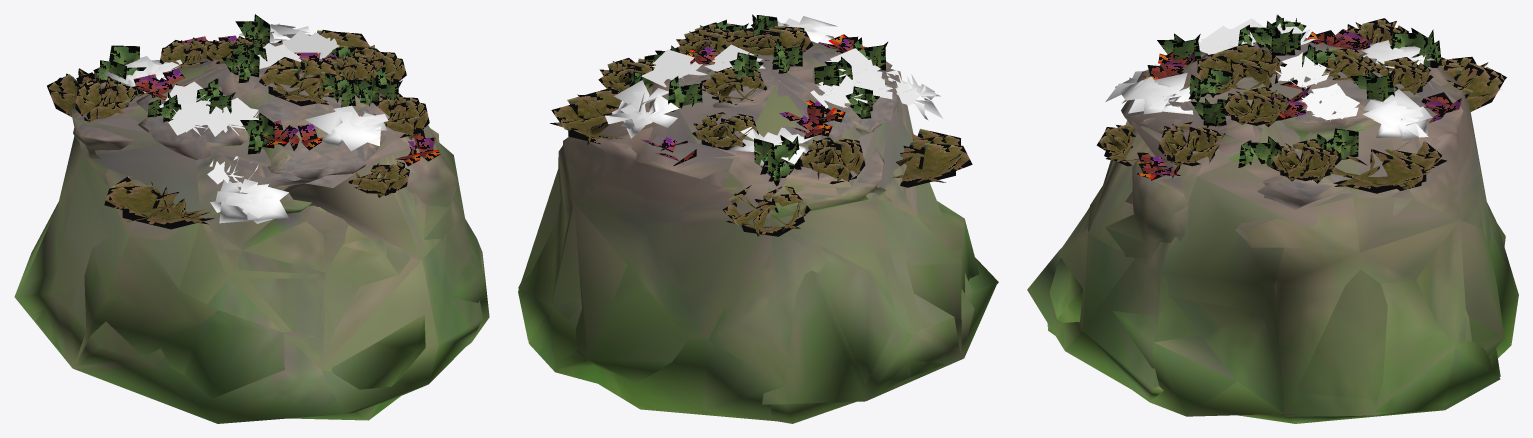
The model's file is objects_un_plan_reef01.gltf.
3 renders of one model, left to right at view 1: azimuth 30°, elevation 25°; view 2: azimuth 150°, elevation 25°; view 3: azimuth 270°, elevation 25°, orthographic. The views are drawn at different scales.
Visible parts, largest first — view 1: um_objects_un_plan_reef01_model_lod0Shape:ground_un_rock02_r, um_objects_un_plan_reef01_model_lod2Shape:ground_un_rock02_r, um_objects_un_plan_reef01_model_lod1Shape:ground_un_rock02_r, um_objects_un_plan_reef01_model_lod0Shape:plants_me_desertwe, um_objects_un_plan_reef01_model_lod1Shape:plants_me_desertwe, um_objects_un_plan_reef01_model_lod0Shape:plants_olive01, um_objects_un_plan_reef01_model_lod0Shape:plants_beachspurge, um_objects_un_plan_reef01_model_lod0Shape:plants_me_bush01_0, um_objects_un_plan_reef01_model_lod0Shape:objects_un_plan_se, um_objects_un_plan_reef01_model_lod1Shape:plants_olive01, um_objects_un_plan_reef01_model_lod1Shape:plants_me_bush01_0, um_objects_un_plan_reef01_model_lod1Shape:plants_beachspurge (+2 smaller); view 2: um_objects_un_plan_reef01_model_lod0Shape:ground_un_rock02_r, um_objects_un_plan_reef01_model_lod2Shape:ground_un_rock02_r, um_objects_un_plan_reef01_model_lod1Shape:ground_un_rock02_r, um_objects_un_plan_reef01_model_lod0Shape:plants_me_desertwe, um_objects_un_plan_reef01_model_lod1Shape:plants_me_desertwe, um_objects_un_plan_reef01_model_lod0Shape:plants_beachspurge, um_objects_un_plan_reef01_model_lod0Shape:plants_olive01, um_objects_un_plan_reef01_model_lod0Shape:plants_me_bush01_0, um_objects_un_plan_reef01_model_lod1Shape:plants_olive01, um_objects_un_plan_reef01_model_lod0Shape:objects_un_plan_se, um_objects_un_plan_reef01_model_lod2Shape:plants_me_desertwe, um_objects_un_plan_reef01_model_lod1Shape:plants_beachspurge (+1 smaller); view 3: um_objects_un_plan_reef01_model_lod0Shape:ground_un_rock02_r, um_objects_un_plan_reef01_model_lod1Shape:ground_un_rock02_r, um_objects_un_plan_reef01_model_lod2Shape:ground_un_rock02_r, um_objects_un_plan_reef01_model_lod0Shape:plants_me_desertwe, um_objects_un_plan_reef01_model_lod1Shape:plants_me_desertwe, um_objects_un_plan_reef01_model_lod0Shape:plants_olive01, um_objects_un_plan_reef01_model_lod0Shape:plants_me_bush01_0, um_objects_un_plan_reef01_model_lod0Shape:objects_un_plan_se, um_objects_un_plan_reef01_model_lod0Shape:plants_beachspurge, um_objects_un_plan_reef01_model_lod1Shape:plants_olive01, um_objects_un_plan_reef01_model_lod1Shape:plants_beachspurge, um_objects_un_plan_reef01_model_lod1Shape:plants_me_bush01_0 (+3 smaller).
Part boxes in pixels (x1,y1,x2,y2): um_objects_un_plan_reef01_model_lod0Shape:ground_un_rock02_r: [72, 42, 489, 420]; um_objects_un_plan_reef01_model_lod2Shape:ground_un_rock02_r: [14, 42, 473, 423]; um_objects_un_plan_reef01_model_lod1Shape:ground_un_rock02_r: [23, 64, 482, 423]; um_objects_un_plan_reef01_model_lod0Shape:plants_me_desertwe: [47, 30, 429, 229]; um_objects_un_plan_reef01_model_lod1Shape:plants_me_desertwe: [47, 30, 429, 228]; um_objects_un_plan_reef01_model_lod0Shape:plants_olive01: [93, 14, 398, 154]; um_objects_un_plan_reef01_model_lod0Shape:plants_beachspurge: [159, 31, 339, 184]; um_objects_un_plan_reef01_model_lod0Shape:plants_me_bush01_0: [126, 23, 387, 223]; um_objects_un_plan_reef01_model_lod0Shape:objects_un_plan_se: [132, 35, 440, 166]; um_objects_un_plan_reef01_model_lod1Shape:plants_olive01: [109, 34, 402, 144]; um_objects_un_plan_reef01_model_lod1Shape:plants_me_bush01_0: [135, 24, 388, 191]; um_objects_un_plan_reef01_model_lod1Shape:plants_beachspurge: [166, 31, 324, 182]; um_objects_un_plan_reef01_model_lod0Shape:ground_un_rock02_r: [518, 41, 979, 421]; um_objects_un_plan_reef01_model_lod2Shape:ground_un_rock02_r: [518, 54, 996, 404]; um_objects_un_plan_reef01_model_lod1Shape:ground_un_rock02_r: [526, 41, 998, 423]; um_objects_un_plan_reef01_model_lod0Shape:plants_me_desertwe: [550, 23, 971, 236]; um_objects_un_plan_reef01_model_lod1Shape:plants_me_desertwe: [551, 23, 972, 236]; um_objects_un_plan_reef01_model_lod0Shape:plants_beachspurge: [641, 44, 920, 108]; um_objects_un_plan_reef01_model_lod0Shape:plants_olive01: [627, 14, 885, 185]; um_objects_un_plan_reef01_model_lod0Shape:plants_me_bush01_0: [605, 18, 940, 166]; um_objects_un_plan_reef01_model_lod1Shape:plants_olive01: [629, 17, 887, 185]; um_objects_un_plan_reef01_model_lod0Shape:objects_un_plan_se: [641, 34, 866, 165]; um_objects_un_plan_reef01_model_lod2Shape:plants_me_desertwe: [567, 22, 925, 223]; um_objects_un_plan_reef01_model_lod1Shape:plants_beachspurge: [642, 45, 906, 108]; um_objects_un_plan_reef01_model_lod0Shape:ground_un_rock02_r: [1047, 38, 1518, 423]; um_objects_un_plan_reef01_model_lod1Shape:ground_un_rock02_r: [1062, 42, 1500, 416]; um_objects_un_plan_reef01_model_lod2Shape:ground_un_rock02_r: [1027, 47, 1505, 416]; um_objects_un_plan_reef01_model_lod0Shape:plants_me_desertwe: [1098, 18, 1504, 193]; um_objects_un_plan_reef01_model_lod1Shape:plants_me_desertwe: [1097, 21, 1506, 192]; um_objects_un_plan_reef01_model_lod0Shape:plants_olive01: [1157, 15, 1438, 171]; um_objects_un_plan_reef01_model_lod0Shape:plants_me_bush01_0: [1115, 40, 1435, 140]; um_objects_un_plan_reef01_model_lod0Shape:objects_un_plan_se: [1135, 29, 1461, 180]; um_objects_un_plan_reef01_model_lod0Shape:plants_beachspurge: [1155, 18, 1359, 120]; um_objects_un_plan_reef01_model_lod1Shape:plants_olive01: [1173, 14, 1441, 158]; um_objects_un_plan_reef01_model_lod1Shape:plants_beachspurge: [1199, 19, 1358, 120]; um_objects_un_plan_reef01_model_lod1Shape:plants_me_bush01_0: [1105, 42, 1433, 137].
Bounding box in the file's own units: 12.03 × 8.43 × 12.51.
6 materials, 4 textured.
